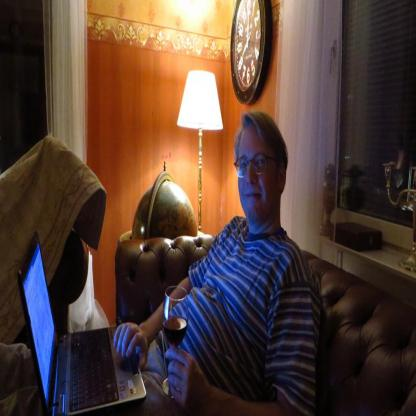board: (27, 245, 136, 409)
